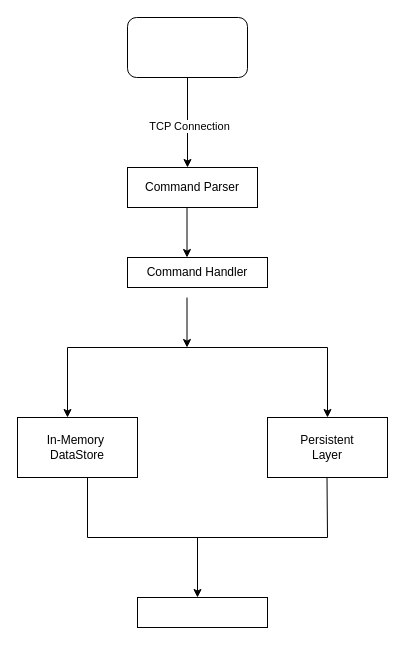
The diagram is 405 pixels wide and 645 high, and some of its shapes have lost their labels. The centre of each missing label's shape, as x and y in pixels:
"Client" goes at (187,47).
"File System (Disk)" goes at (202,612).
